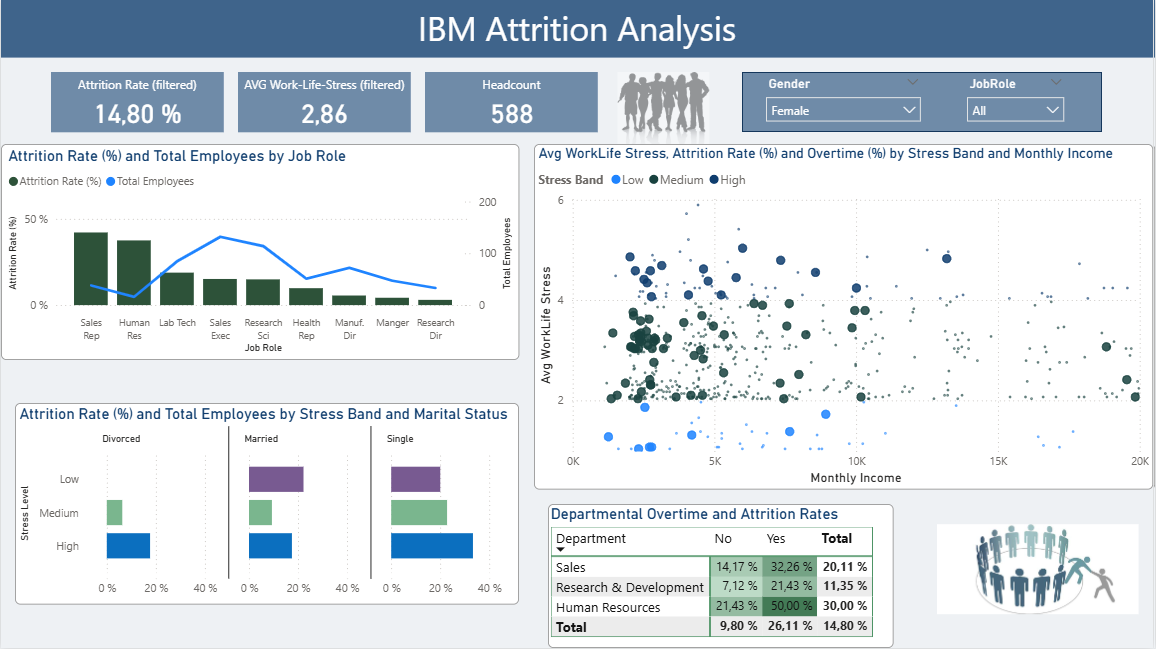

What the dashboard file says about the page in this screenshot:
{"tool":"powerbi","page":{"name":"Attrition Takeaways","canvas":[1280,720],"ordinal":0},"visuals":[{"type":"textbox","box":[0,0,1280,64],"z":0},{"type":"card","fields":{"Values":["Employee_Facts.Total Employees"]},"box":[472,80,192,66.7],"z":1000,"group":"g2"},{"type":"lineStackedColumnComboChart","title":"Attrition Rate (%) and Total Employees by Job Role","fields":{"Y":["measures .Attrition Rate (%)"],"Y2":["measures .Total Employees"],"Category":["Employee_Facts.JobRole_Short"]},"box":[0,160,576,240],"z":2000},{"type":"card","fields":{"Values":["Employee_Facts.Avg WorkLife Stress"]},"box":[264,80,192,66.7],"z":3000,"group":"g2"},{"type":"pivotTable","title":"Departmental Overtime and Attrition Rates","fields":{"Rows":["Employee_Facts.Department"],"Columns":["Employee_Facts.OverTime"],"Values":["measures .Attrition Rate (%)"]},"box":[608,560,384,160],"z":4000},{"type":"card","fields":{"Values":["Employee_Facts.Attrition Rate (%)"]},"box":[56,80,192,66.7],"z":5000,"group":"g2"},{"type":"clusteredBarChart","title":"Attrition Rate (%) and Total Employees by Stress Band and Marital Status","fields":{"Category":["Employee_Facts.Stress Band"],"Y":["measures .Attrition Rate (%)"],"Rows":["Employee_Facts.MaritalStatus"]},"box":[16,448,560,224],"z":6000},{"type":"scatterChart","title":"Avg WorkLife Stress, Attrition Rate (%) and Overtime (%) by Stress Band and Monthly Income","fields":{"Series":["Employee_Facts.Stress Band"],"X":["Employee_Facts.MonthlyIncome"],"Y":["measures .Avg WorkLife Stress"],"Size":["measures .Attrition Rate (%)"]},"box":[592,160,688,384],"z":7000},{"type":"image","box":[1040,544,224,176],"z":8000},{"type":"shape","box":[824,80,400,66.7],"z":9000,"group":"g2"},{"type":"slicer","fields":{"Values":["Employee_Facts.JobRole"]},"box":[1064,80,128,66.7],"z":10000,"group":"g2"},{"type":"slicer","fields":{"Values":["Employee_Facts.Gender"]},"box":[840,80,192,66.7],"z":11000,"group":"g2"},{"type":"image","box":[680,80,112,80],"z":12000,"group":"g2"},{"type":"group","id":"g1","title":"Group 1","box":[56,80,1168,80],"z":12001},{"type":"group","id":"g2","title":"Group 2","box":[56,80,1168,80],"z":12002,"group":"g1"}]}

Visuals, with their boxes in screenshot pixels (x1, y1, x2, y2), scaled from the page's 1280x720 canvas onto the 1156x649 screenshot:
textbox: box=[0, 0, 1155, 58]
card - Employee_Facts.Total Employees: box=[426, 72, 600, 132]
"Attrition Rate (%) and Total Employees by Job Role" lineStackedColumnComboChart: box=[0, 144, 520, 361]
card - Employee_Facts.Avg WorkLife Stress: box=[238, 72, 412, 132]
"Departmental Overtime and Attrition Rates" pivotTable: box=[549, 505, 896, 648]
card - Employee_Facts.Attrition Rate (%): box=[51, 72, 224, 132]
"Attrition Rate (%) and Total Employees by Stress Band and Marital Status" clusteredBarChart: box=[14, 404, 520, 606]
"Avg WorkLife Stress, Attrition Rate (%) and Overtime (%) by Stress Band and Monthly Income" scatterChart: box=[535, 144, 1155, 490]
image: box=[939, 490, 1142, 648]
shape: box=[744, 72, 1105, 132]
slicer - Employee_Facts.JobRole: box=[961, 72, 1077, 132]
slicer - Employee_Facts.Gender: box=[759, 72, 932, 132]
image: box=[614, 72, 715, 144]
"Group 1" group: box=[51, 72, 1105, 144]
"Group 2" group: box=[51, 72, 1105, 144]
